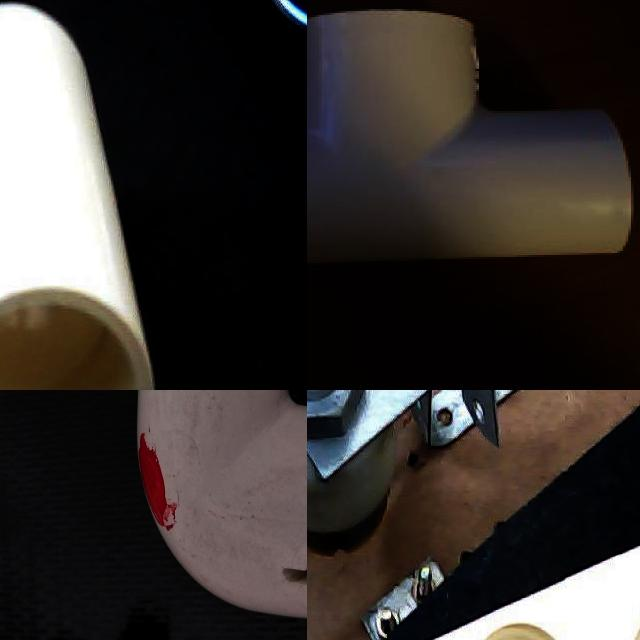Defective: (565, 555, 640, 640), (82, 505, 172, 563), (0, 466, 29, 495)
L Joint: (0, 456, 177, 640), (139, 390, 307, 519)
T Joint: (307, 9, 634, 269), (0, 2, 158, 390)
